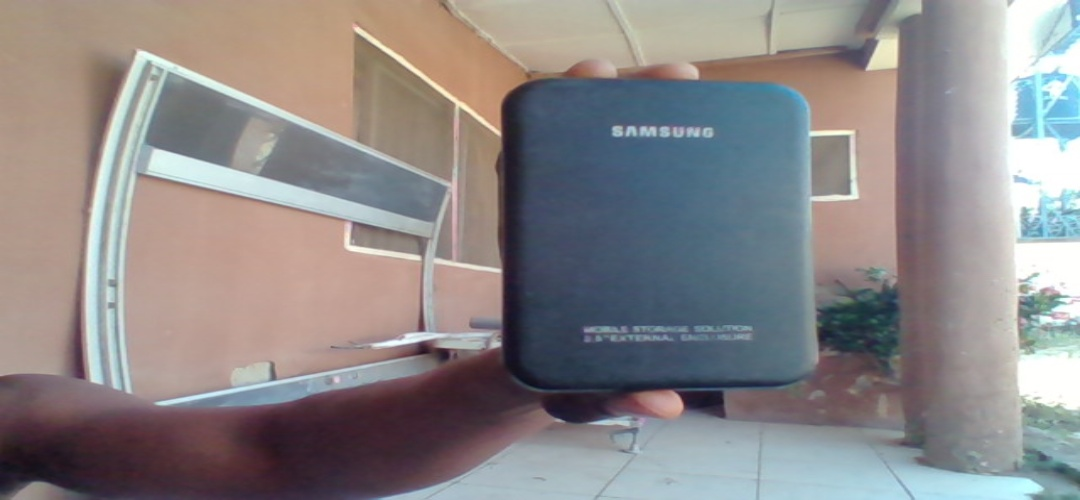hard_disk_case: (508, 77, 820, 390)
